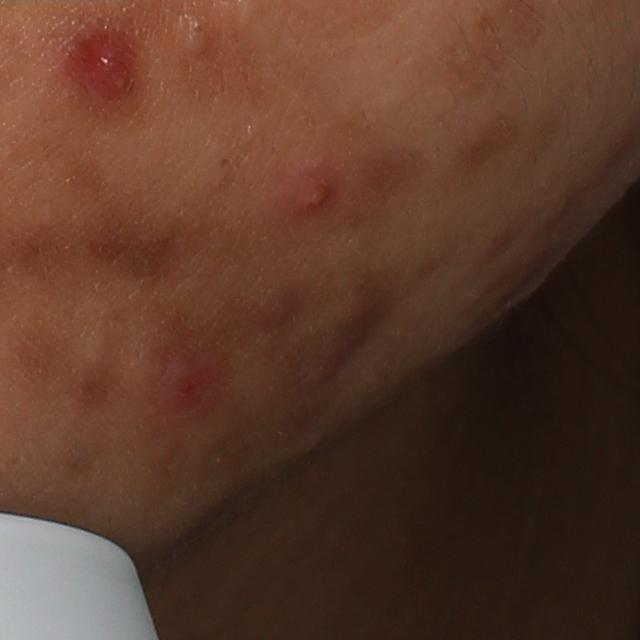papule: (75, 27, 142, 101), (156, 355, 222, 421)
